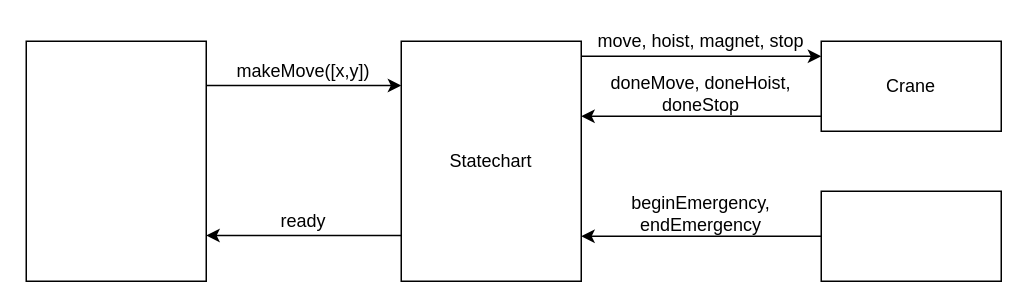
Image size: 1028x308. Some labels were removed from this diagram. The centre of each missing label's shape, as x and y in pixels:
Emergency Panel: pixel 910 235
Scheduler: pixel 115 160
